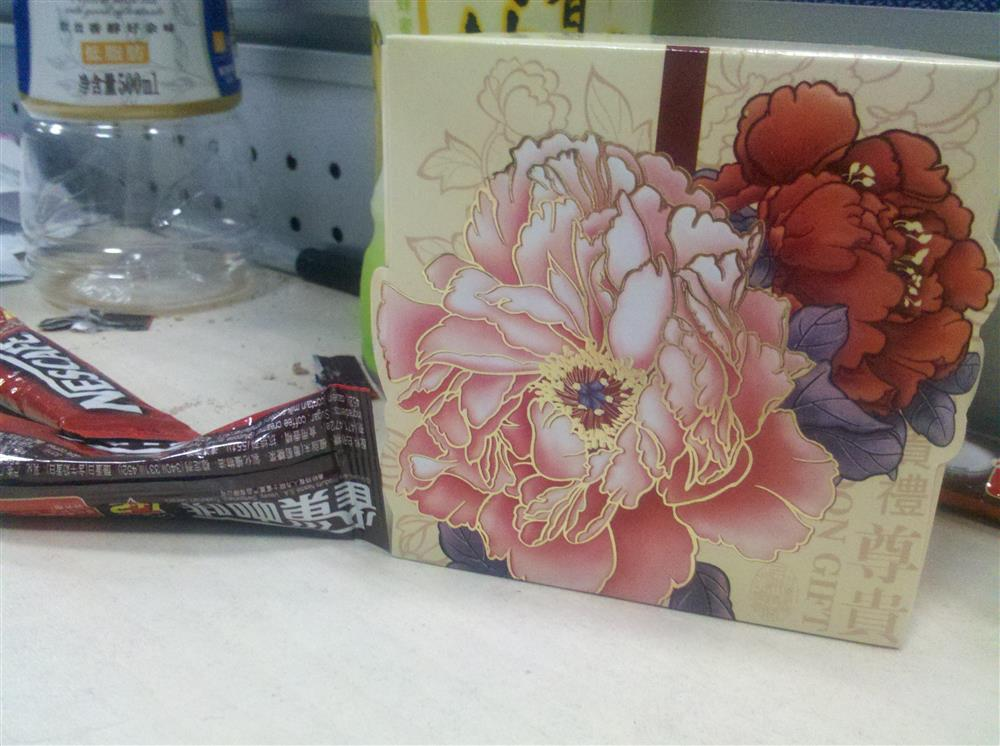mooncake_box: (370, 35, 993, 647)
